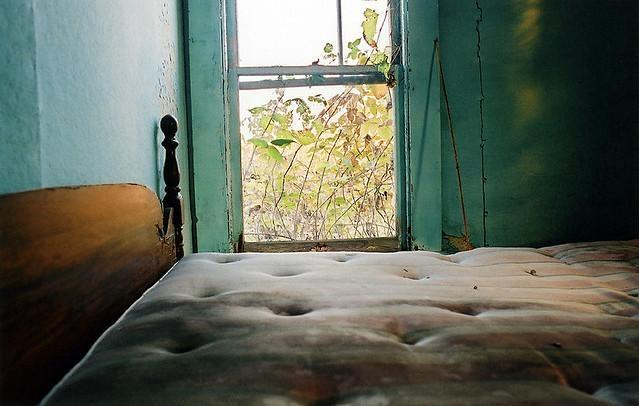Bed-Mattress: (27, 234, 639, 406)
